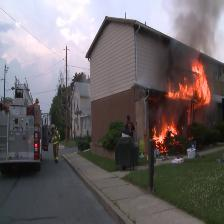fire: (132, 56, 222, 171)
smoke: (160, 0, 224, 69)
